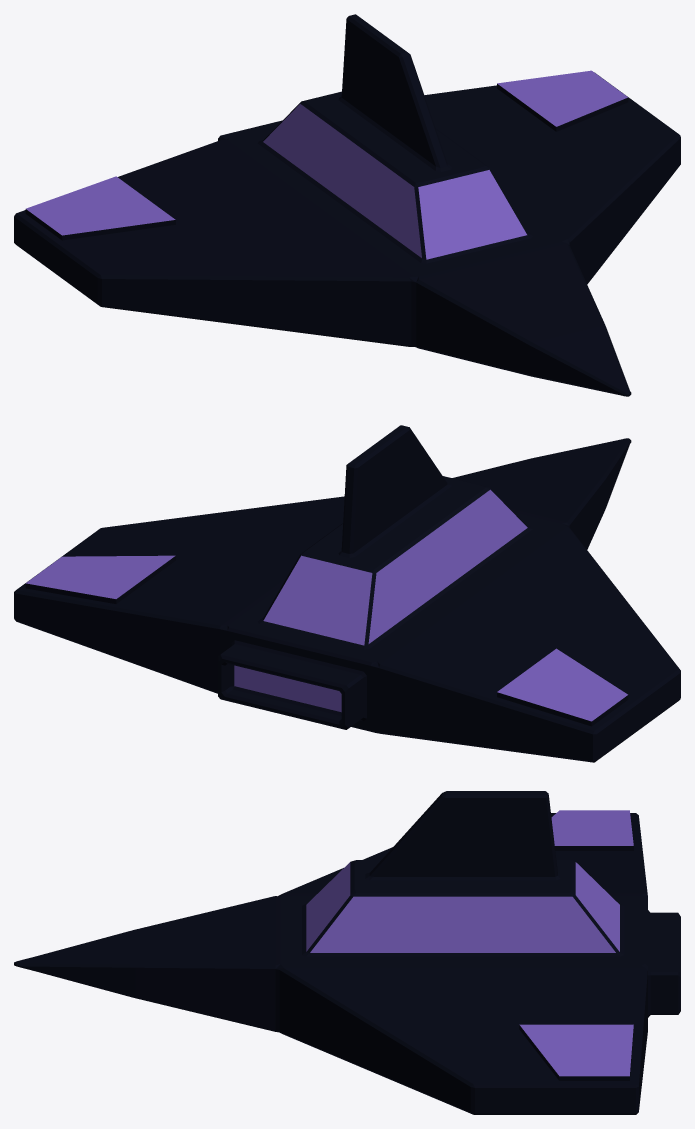
The model's file is Nave_final.obj.
The picture shows the model from 3 angles, top to bottom: view 1: azimuth 30°, elevation 25°; view 2: azimuth 150°, elevation 25°; view 3: azimuth 270°, elevation 25°; orthographic projection. The views are drawn at different scales.
Parts seen in each view (by area): view 1: Cube; view 2: Cube; view 3: Cube.
Part boxes in pixels (box(x1,y1,x2,y2)): Cube: box(14, 14, 680, 396); Cube: box(14, 425, 680, 762); Cube: box(14, 791, 680, 1114).
Bounding box in the file's own units: 4.9 × 1.71 × 5.05.
